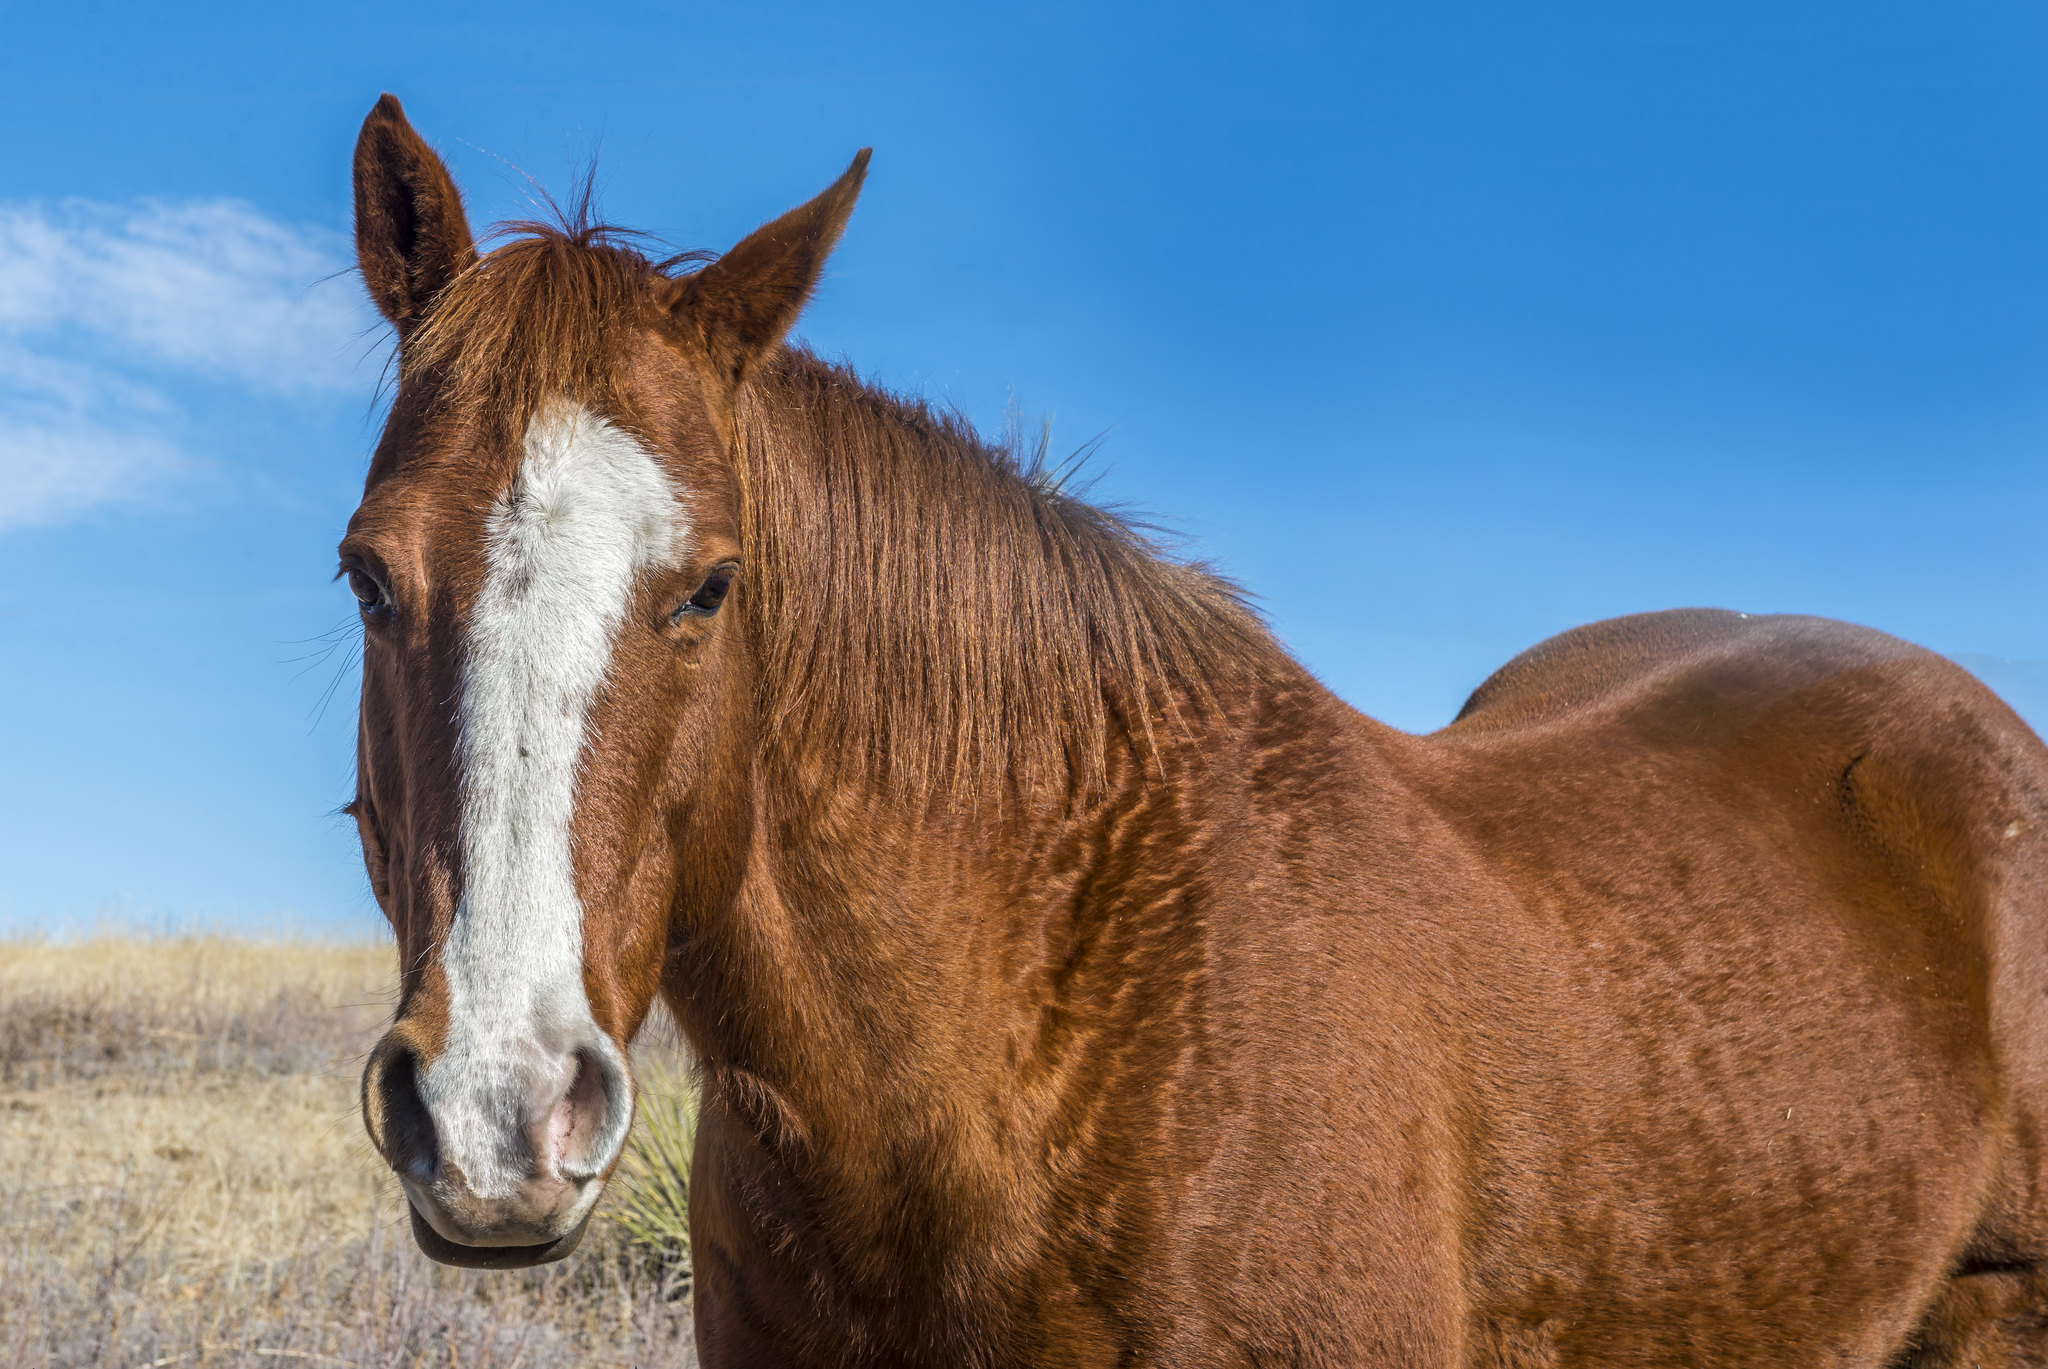horse: (295, 93, 2048, 1369)
